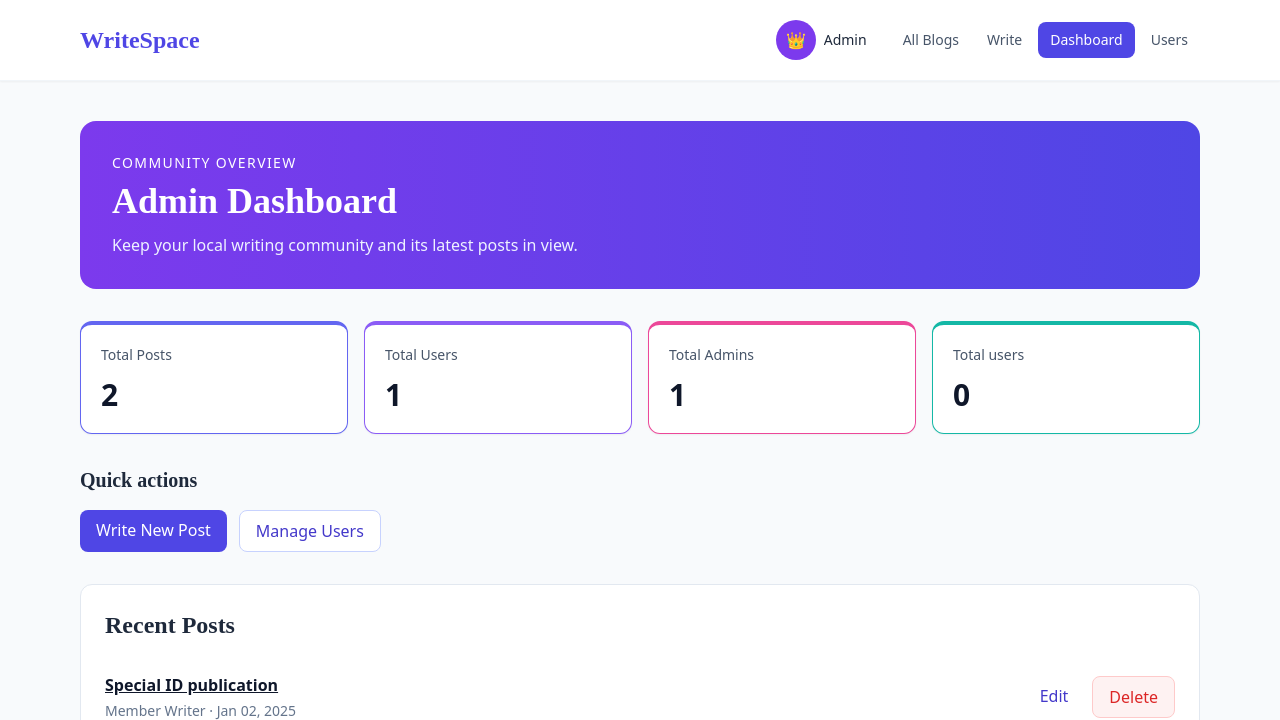
dashboard › opens the correct stored record from the dashboard read link with an encoded ID
The image size is (1280, 720).
Click the link "Special ID publication".
click(192, 685)  # box [105, 674, 278, 696]
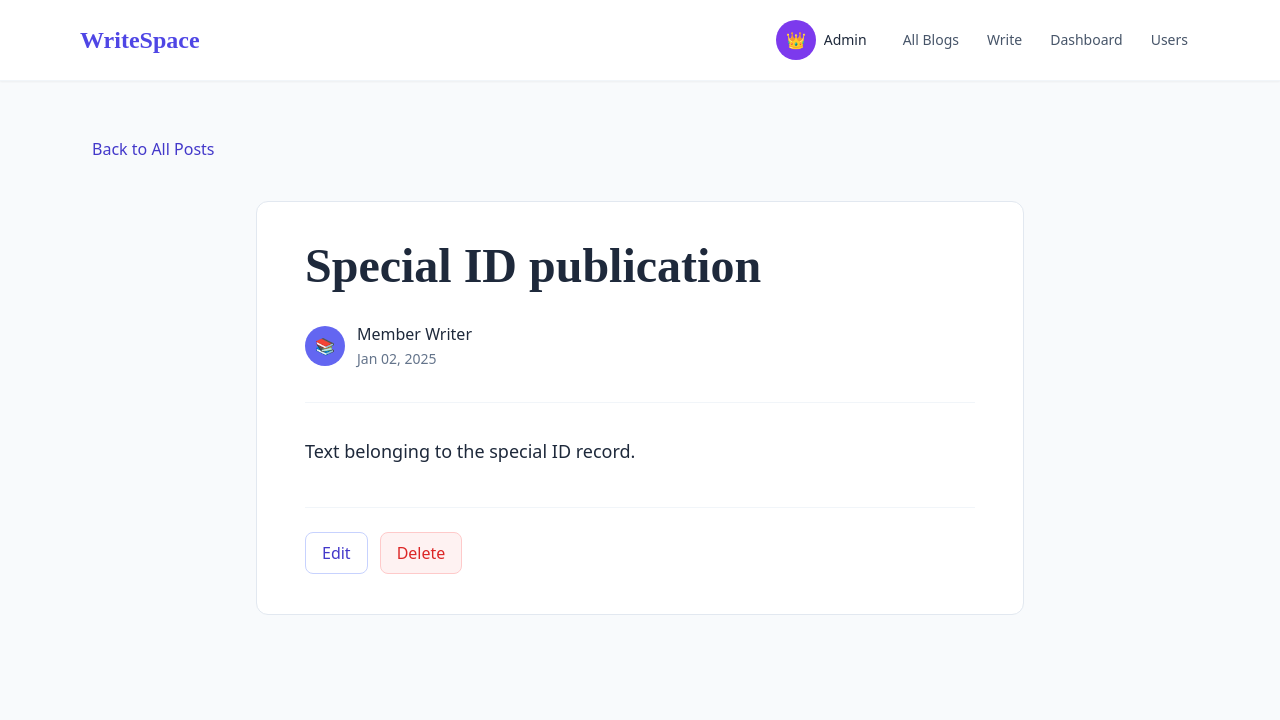
Expected: the heading "Special ID publication" is shown, [305, 239, 761, 292]
Result: the text "Text belonging to the special ID record." is shown at [305, 439, 635, 463]
